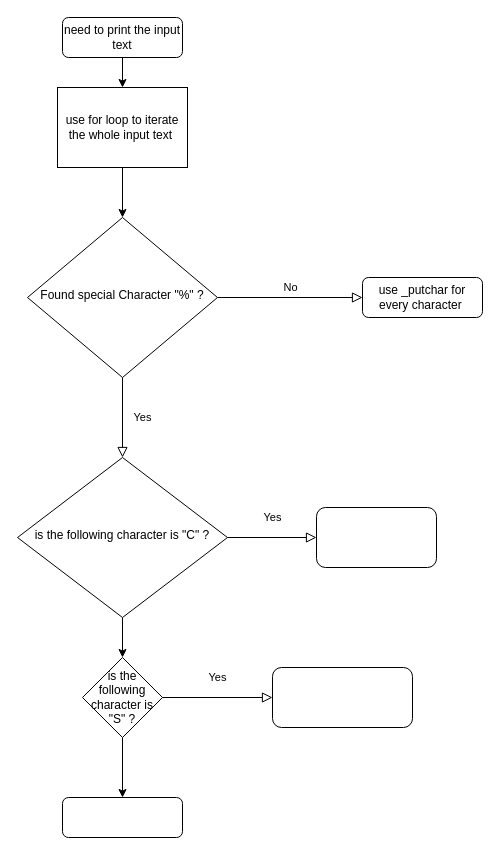
The diagram is 500 pixels wide and 855 high, and some of its shapes have lost their labels. The box of each missing label's shape, as (x1, y1, x2, y2) in pixels:
_putchar the input as a single character.: (316, 506, 436, 568)
_putchar the input as a string from the corresponding argv: (272, 666, 412, 728)
check for all possible solutions: (62, 796, 182, 838)
